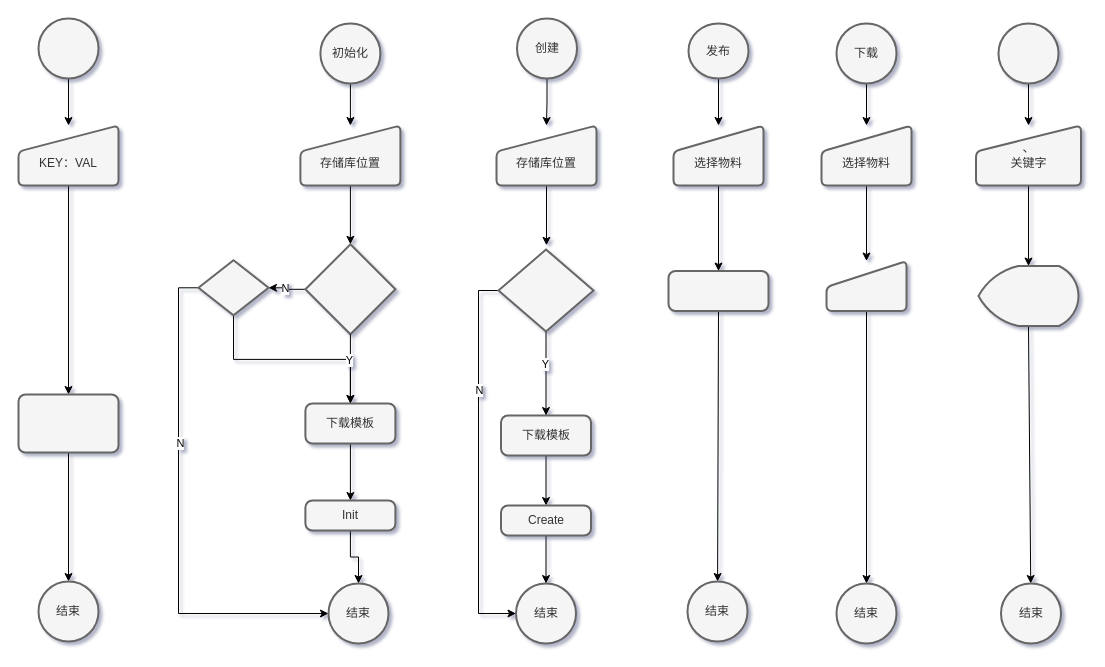
Some shapes in this 1105 by 667 pixel diagram are drawn without their labels. Here are the shapes that lost their labels. From the top down, the centre of each, then its label:
At point (68, 48): "配置".
At point (1028, 53): "查询".
At point (233, 287): "是否覆盖".
At point (350, 289): "目录是否为空".
At point (545, 290): "未存在".
At point (718, 291): "提交推送".
At point (866, 286): "载入位置".
At point (1028, 295): "物料信息".
At point (68, 423): "写配置文件".
